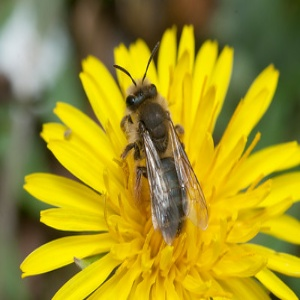bee: (116, 62, 209, 245)
